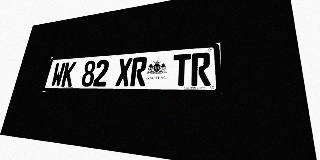2: (93, 59, 110, 86)
8: (80, 60, 97, 87)
K: (61, 62, 77, 87)
R: (191, 52, 211, 86), (130, 57, 148, 86)
T: (172, 54, 191, 86)
W: (50, 62, 66, 87)
X: (115, 58, 133, 86)
